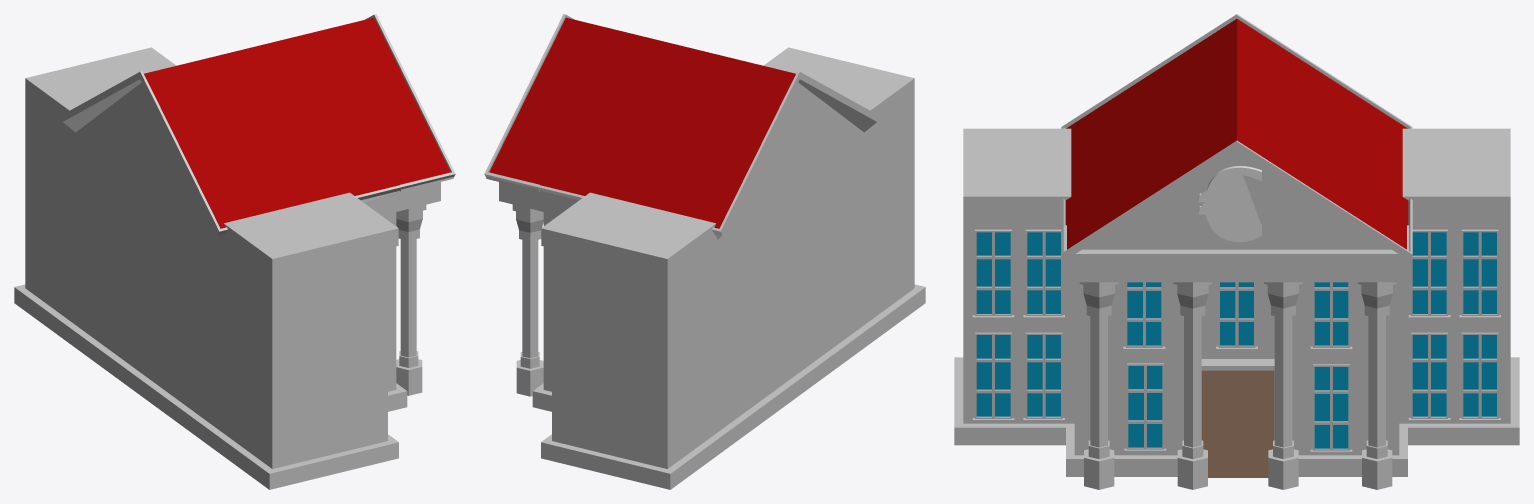
Rendered from Bank.fbx.
3 views of the same model, side by side, from view 1: azimuth 30°, elevation 25°; view 2: azimuth 150°, elevation 25°; view 3: azimuth 270°, elevation 25° (orthographic). The views are drawn at different scales.
Parts seen in each view (by area): view 1: Bank; view 2: Bank; view 3: Bank.
Part boxes in pixels (bbox=[...]): Bank: bbox=[14, 14, 455, 489]; Bank: bbox=[484, 14, 925, 489]; Bank: bbox=[954, 14, 1519, 489].
Size of the model in its own units: 4.04 by 5.38 by 7.56.
